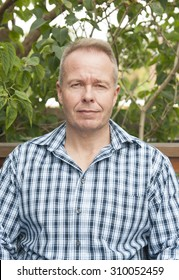NoMask: (63, 75, 111, 134)
